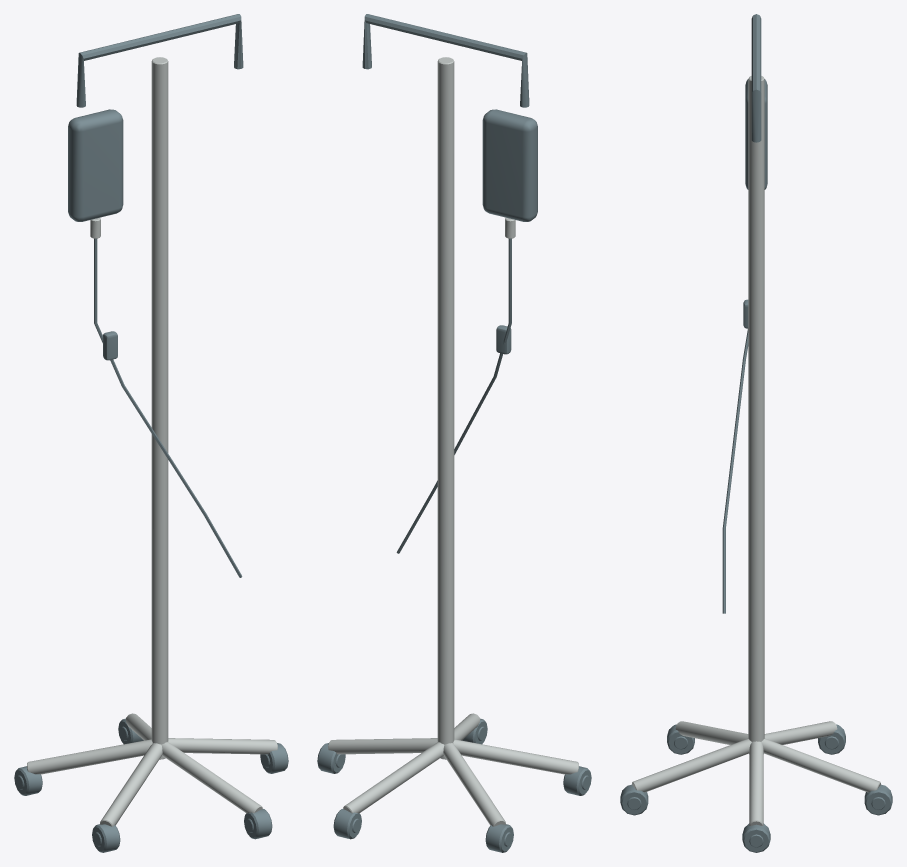
File: iv-stand.glb
3 views of the same model, side by side, from view 1: azimuth 30°, elevation 25°; view 2: azimuth 150°, elevation 25°; view 3: azimuth 270°, elevation 25° (orthographic). The views are drawn at different scales.
Parts seen in each view (by area): view 1: iv_pole, iv_bag, hanging_hooks, star_base.003, star_base.001, star_base, star_base.002, infusion_line, iv_caster_wheel.002, iv_caster_wheel.001, iv_caster_wheel.003, iv_caster_wheel; view 2: iv_pole, iv_bag, hanging_hooks, star_base.002, star_base.004, star_base, star_base.003, infusion_line, iv_caster_wheel.003, iv_caster_wheel.004, iv_caster_wheel.002, iv_caster_wheel; view 3: iv_pole, star_base.001, star_base.004, hanging_hooks, star_base, infusion_line, star_base.002, star_base.003, iv_bag, iv_caster_wheel, iv_caster_wheel.001, iv_caster_wheel.004.
Boxes of the visible parts, x1,y1,x2,y2 form: iv_pole: (151, 57, 168, 759); iv_bag: (68, 109, 123, 221); hanging_hooks: (76, 14, 243, 107); star_base.003: (27, 739, 152, 774); star_base.001: (161, 742, 262, 813); star_base: (168, 738, 277, 754); star_base.002: (100, 743, 162, 826); infusion_line: (94, 238, 242, 577); iv_caster_wheel.002: (92, 824, 120, 852); iv_caster_wheel.001: (244, 809, 272, 839); iv_caster_wheel.003: (14, 766, 42, 795); iv_caster_wheel: (260, 743, 288, 773); iv_pole: (437, 57, 454, 759); iv_bag: (482, 109, 537, 221); hanging_hooks: (362, 14, 529, 107); star_base.002: (453, 739, 578, 774); star_base.004: (343, 742, 444, 813); star_base: (328, 738, 437, 754); star_base.003: (443, 743, 505, 826); infusion_line: (396, 238, 511, 553); iv_caster_wheel.003: (485, 824, 513, 852); iv_caster_wheel.004: (333, 809, 361, 839); iv_caster_wheel.002: (563, 766, 591, 795); iv_caster_wheel: (317, 743, 345, 773); iv_pole: (748, 76, 764, 753); star_base.001: (632, 738, 751, 792); star_base.004: (761, 738, 880, 792); hanging_hooks: (751, 14, 761, 142); star_base: (749, 741, 763, 825); infusion_line: (722, 329, 748, 613); star_base.002: (675, 721, 748, 744); star_base.003: (764, 721, 837, 744); iv_bag: (745, 79, 767, 189); iv_caster_wheel: (742, 823, 770, 852); iv_caster_wheel.001: (620, 784, 648, 815); iv_caster_wheel.004: (864, 784, 892, 815).
Bounding box in the file's own units: 0.6289 × 2.05 × 0.6787.
